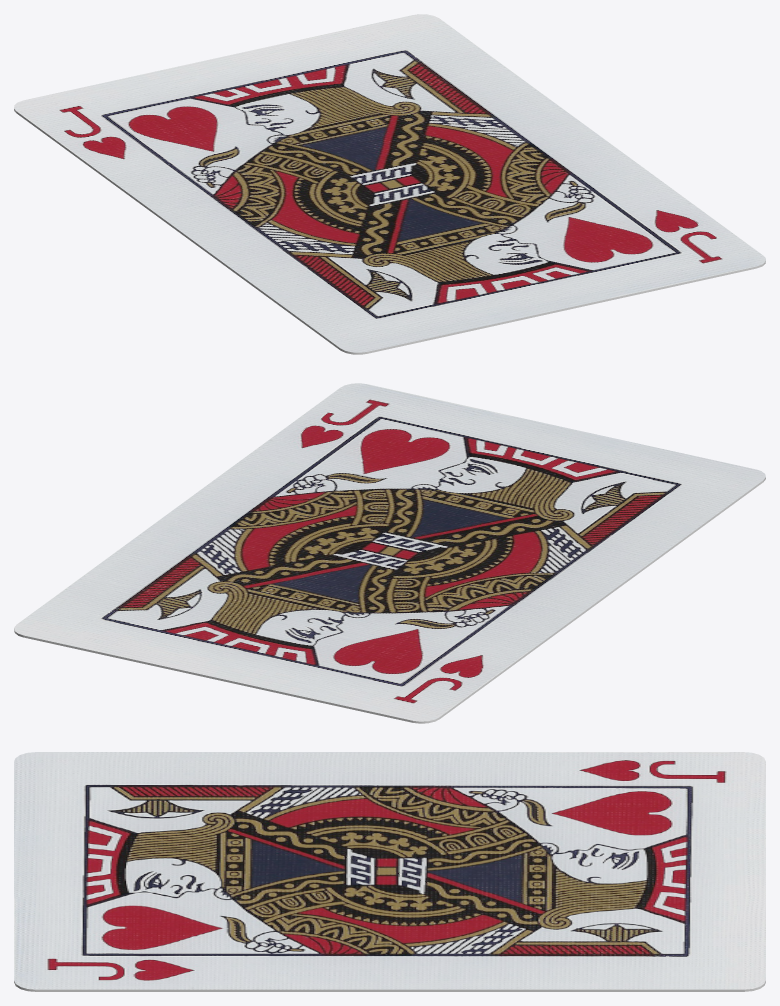
File: heartsJ.fbx
3 views of the same model, one above another, from view 1: azimuth 30°, elevation 25°; view 2: azimuth 150°, elevation 25°; view 3: azimuth 270°, elevation 25° (orthographic). The views are drawn at different scales.
Visible parts, largest first — view 1: Hearts_J_5; view 2: Hearts_J_5; view 3: Hearts_J_5.
Part boxes in pixels (x1,y1,x2,y2): Hearts_J_5: [14, 14, 765, 354]; Hearts_J_5: [14, 383, 765, 723]; Hearts_J_5: [14, 752, 765, 991].
Size of the model in its own units: 6.26 by 0.1776 by 8.8.
